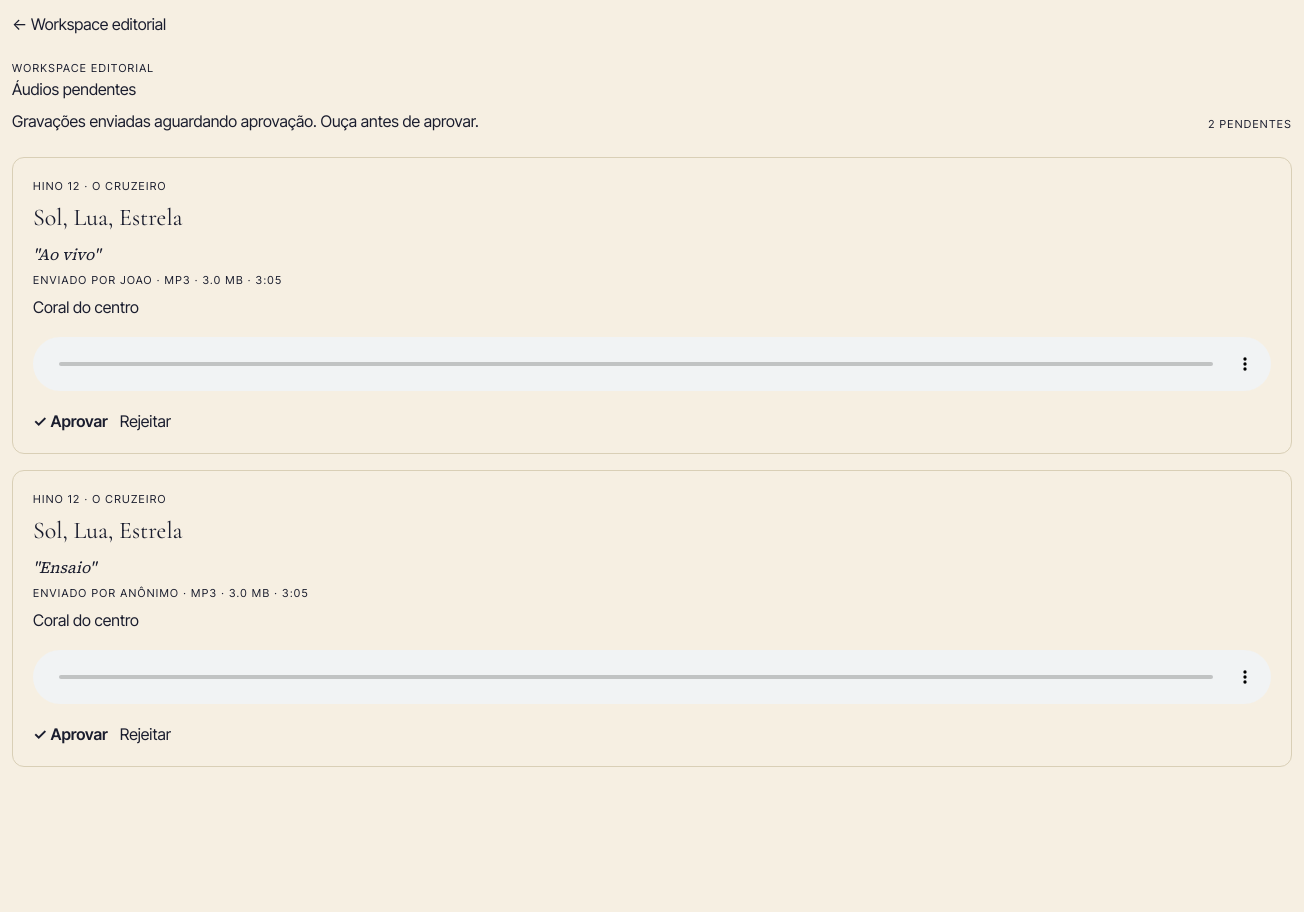
/editor/audios/pendentes — aprovar (5D.15) › remove o item da fila NA HORA, antes da resposta do servidor
Expected: the number of list items with test id "pending-audio-item" is 2, [12,156,1292,454]; [12,470,1292,766]
Click the button with test id "approve-a1" at point(70, 420), box [33,408,108,432]
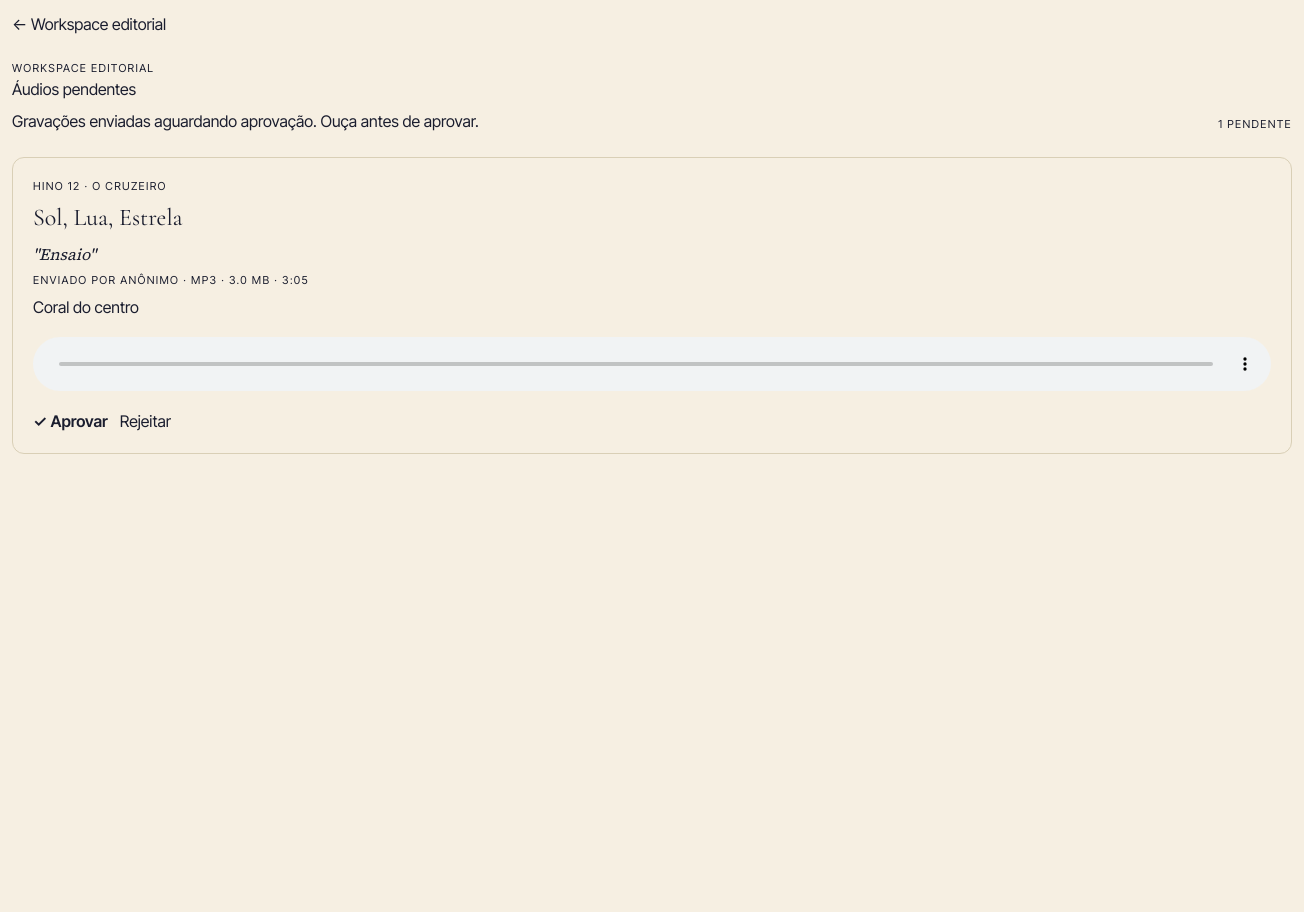
Expected: the number of list items with test id "pending-audio-item" is 1, [12,156,1292,454]
Expected: the text with test id "pending-count" shows "1", [1218,117,1292,131]
